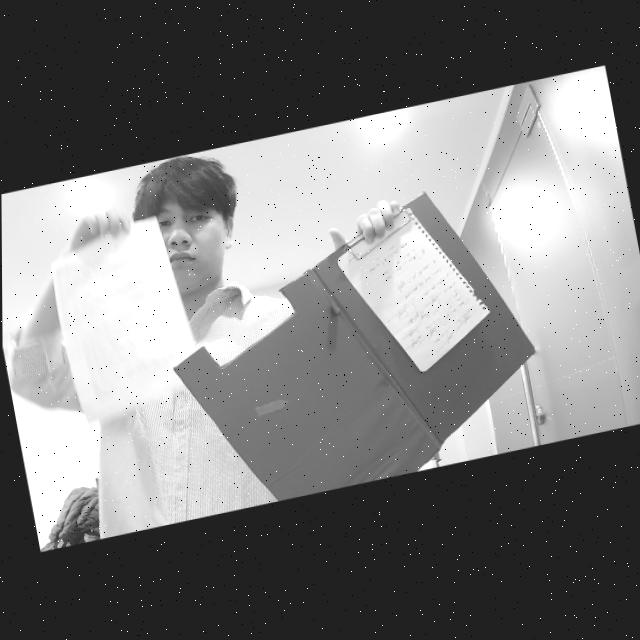document: (334, 206, 491, 373)
face: (129, 174, 243, 306)
